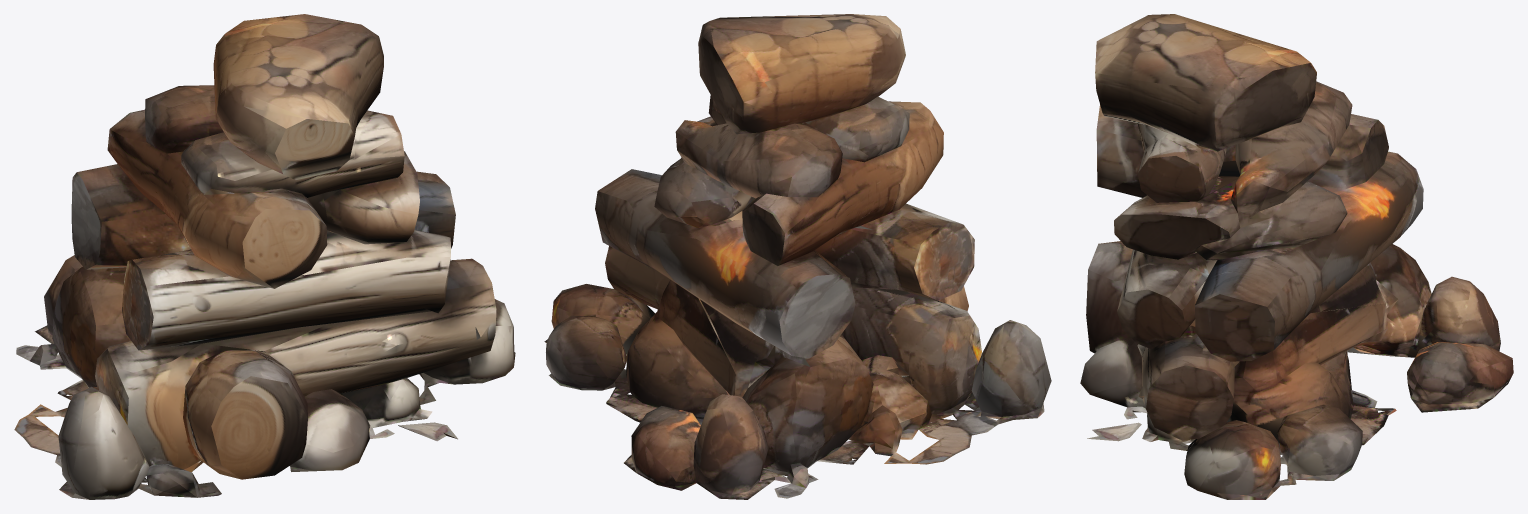
Rendered from campfire.glb.
3 views of the same model, side by side, from view 1: azimuth 30°, elevation 25°; view 2: azimuth 150°, elevation 25°; view 3: azimuth 270°, elevation 25° (orthographic). The views are drawn at different scales.
Visible parts, largest first — view 1: Body; view 2: Body; view 3: Body.
Part boxes in pixels (x1,y1,x2,y2): Body: (14,14,515,499); Body: (544,14,1051,499); Body: (1080,14,1513,499).
Bounding box in the file's own units: 0.6789 × 0.5 × 0.5607.
1 material, 1 textured.
